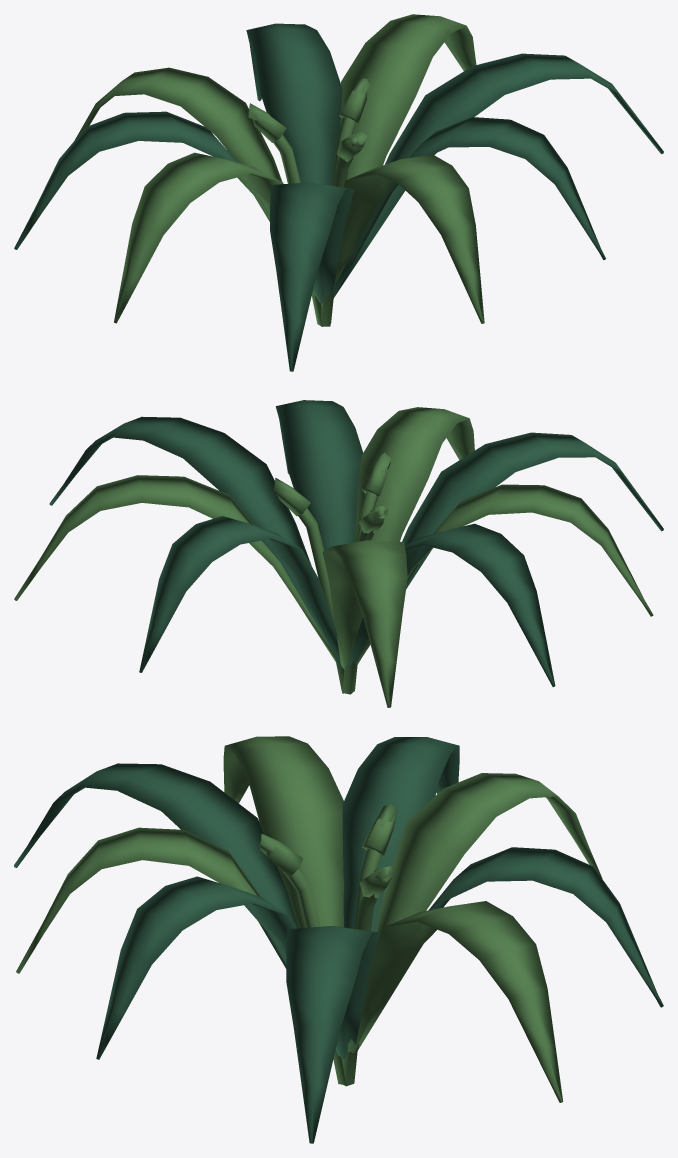
Rendered from pakis.glb.
3 renders of one model, top to bottom at view 1: azimuth 30°, elevation 25°; view 2: azimuth 150°, elevation 25°; view 3: azimuth 270°, elevation 25°, orthographic. The views are drawn at different scales.
Parts seen in each view (by area): view 1: pakis_mesh; view 2: pakis_mesh; view 3: pakis_mesh.
Boxes of the visible parts, <box> form: pakis_mesh: <box>14,14,663,371</box>; pakis_mesh: <box>14,400,663,707</box>; pakis_mesh: <box>14,736,663,1143</box>.
Bounding box in the file's own units: 1.79 × 0.6434 × 1.52.
